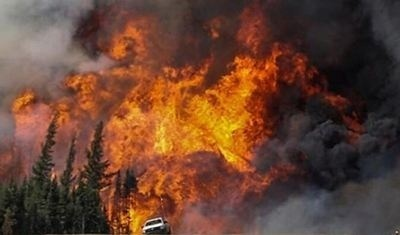fire: (9, 14, 375, 233)
